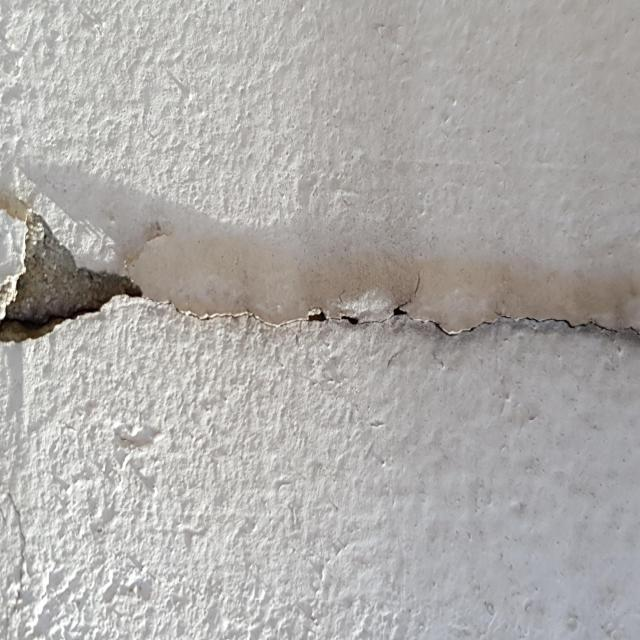GRIETA: (167, 302, 395, 327), (499, 315, 639, 338), (412, 319, 496, 336), (394, 270, 420, 316)
